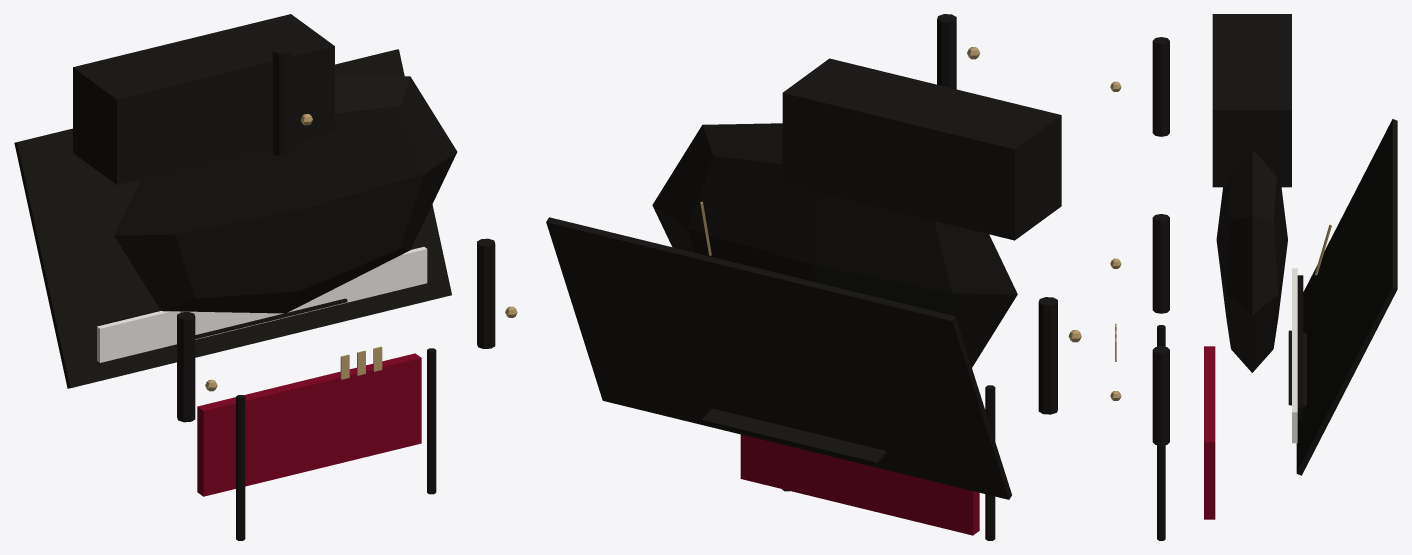
Rendered from piano.obj.
The picture shows the model from 3 angles, left to right: view 1: azimuth 30°, elevation 25°; view 2: azimuth 150°, elevation 25°; view 3: azimuth 270°, elevation 25°; orthographic projection. The views are drawn at different scales.
Parts seen in each view (by area): view 1: Piano; view 2: Piano; view 3: Piano.
Part boxes in pixels (<box>): Piano: <box>14,14,517,540</box>; Piano: <box>546,14,1081,540</box>; Piano: <box>1110,14,1397,540</box>.
Size of the model in its own units: 1.4 by 1.68 by 1.01.
